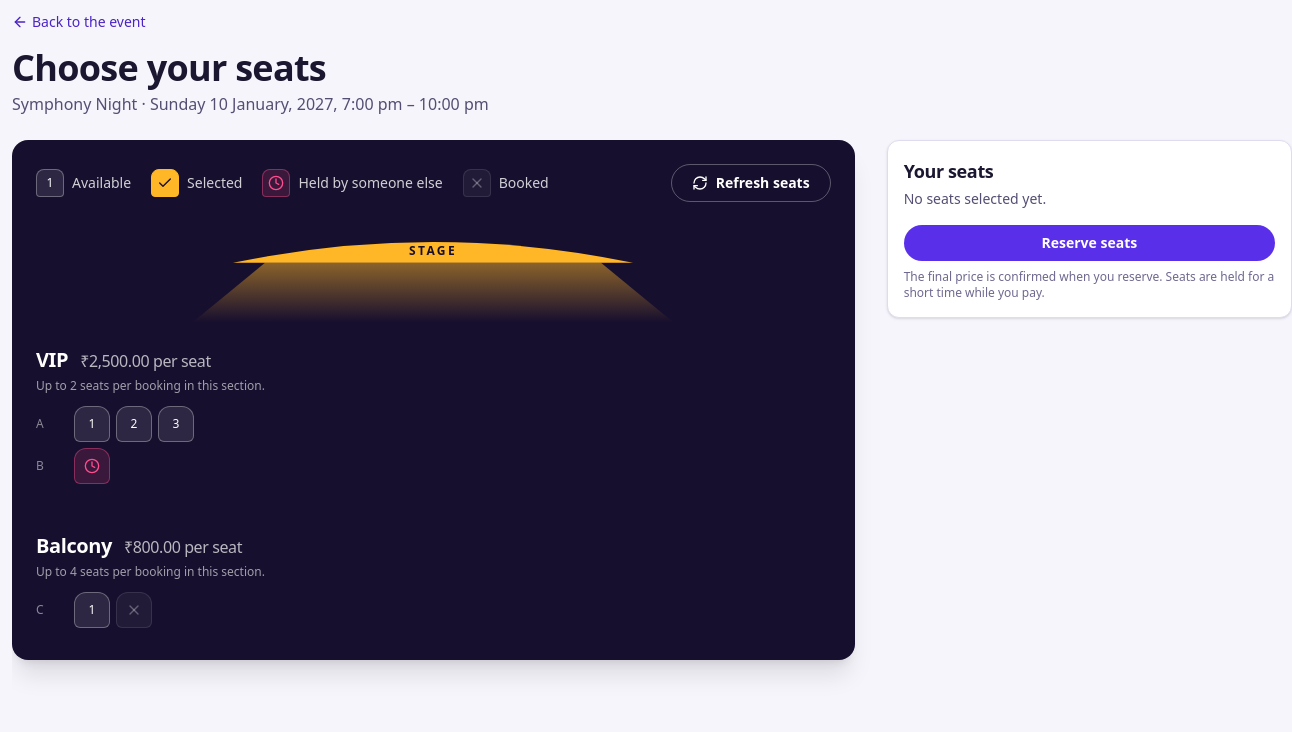
Test: SeatSelectionPage › explains a conflict, refreshes the map and drops the seat someone else took
Click the button named "VIP, row A, seat 1,".
click(92, 424)  # box [74, 406, 110, 442]
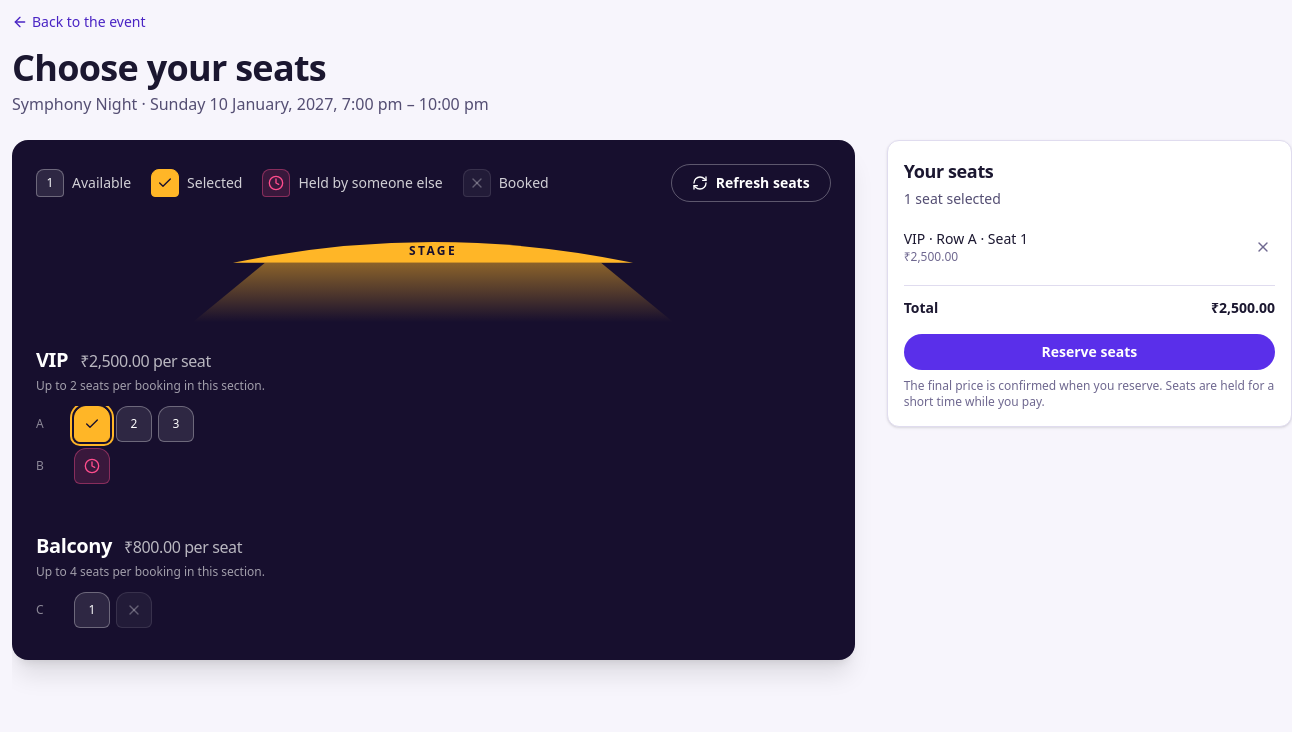
Click the button "Reserve seats".
click(1089, 352)  # box [904, 334, 1275, 370]
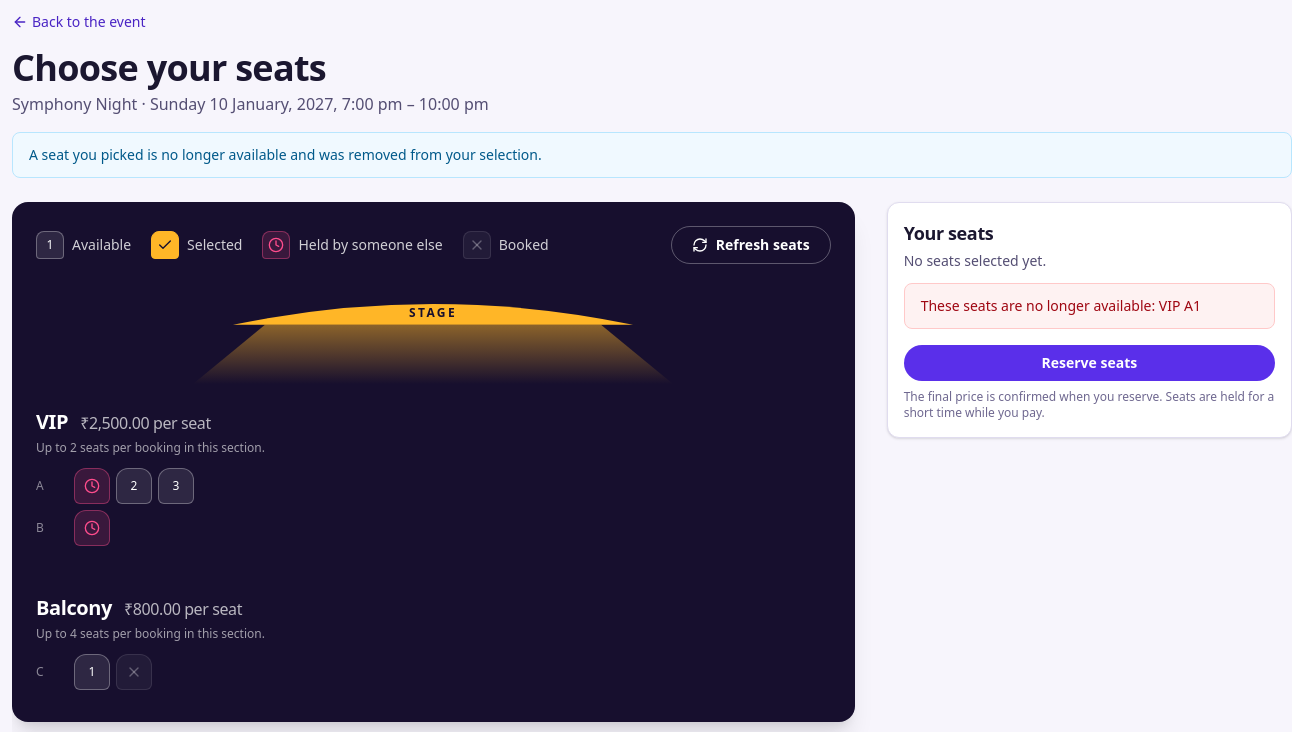
Result: the message "These seats are no longer available: VIP A1" is shown at [904, 283, 1275, 329]
Result: the button named "VIP, row A, seat 1, ₹2,500.00, held by another customer" is shown at [74, 468, 110, 504]
Result: the text "No seats selected yet." is shown at [904, 251, 1046, 270]
